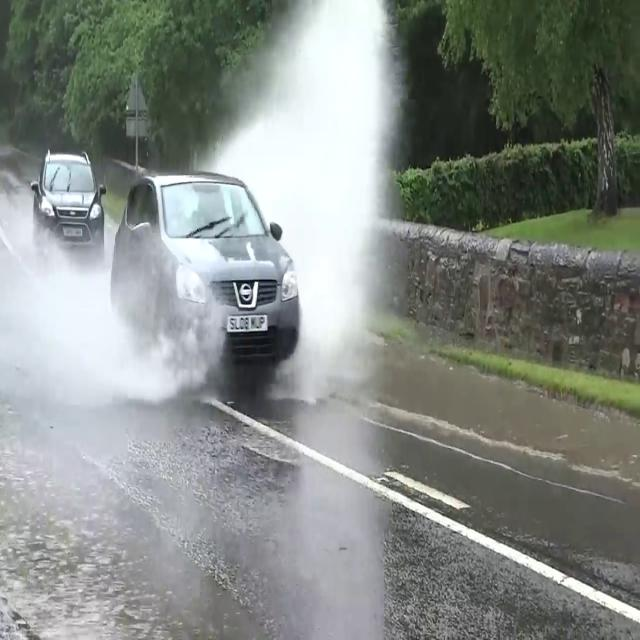license-plate-annotation: (226, 305, 269, 342)
